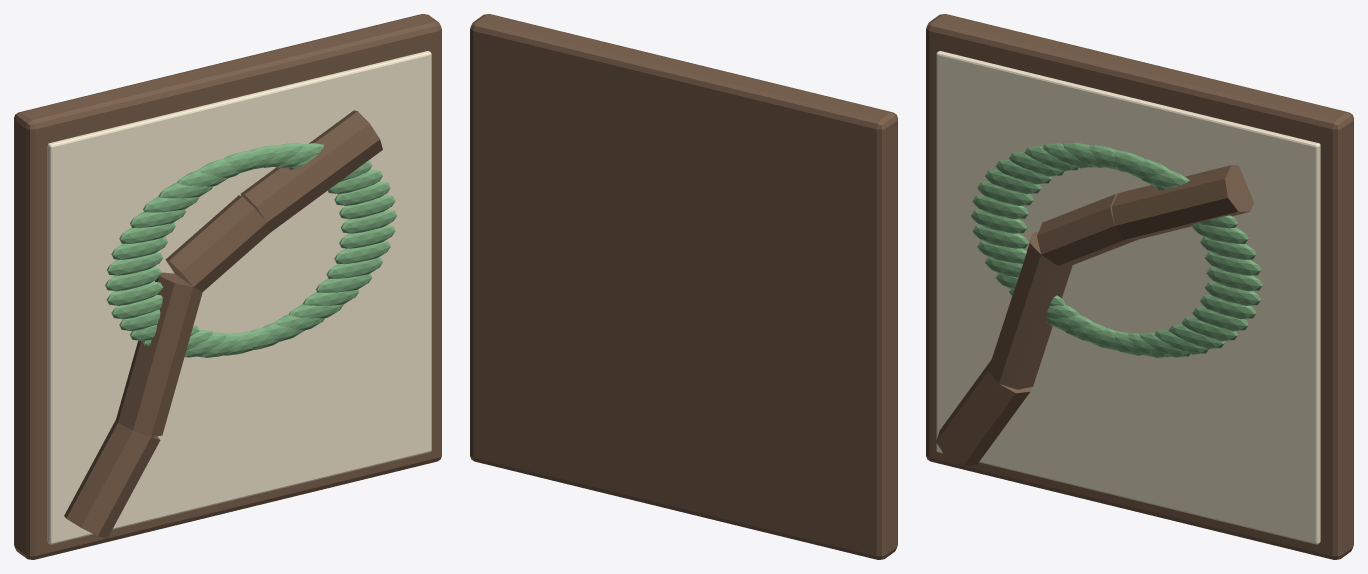
The model's file is stage_kagamiita_panel.glb.
The picture shows the model from 3 angles, left to right: view 1: azimuth 30°, elevation 25°; view 2: azimuth 150°, elevation 25°; view 3: azimuth 330°, elevation 25°; orthographic projection.
Visible parts, largest first — view 1: Kagamiita pale paper field, Kabuki stage kagamiita cedar frame, Painted old pine trunk_01, Painted old pine trunk_03, Painted old pine trunk_00, Painted old pine trunk_02, Fine painted pine needle mass.019, Fine painted pine needle mass, Fine painted pine needle mass.037, Fine painted pine needle mass.020, Fine painted pine needle mass.018, Fine painted pine needle mass.001 (+15 smaller); view 2: Kabuki stage kagamiita cedar frame; view 3: Kagamiita pale paper field, Kabuki stage kagamiita cedar frame, Painted old pine trunk_03, Painted old pine trunk_01, Painted old pine trunk_00, Painted old pine trunk_02, Fine painted pine needle mass, Fine painted pine needle mass.019, Fine painted pine needle mass.037, Fine painted pine needle mass.020, Fine painted pine needle mass.001, Fine painted pine needle mass.018 (+15 smaller).
Boxes of the visible parts, x1,y1,x2,y2 form: Kagamiita pale paper field: (47,51,431,544); Kabuki stage kagamiita cedar frame: (14,14,441,559); Painted old pine trunk_01: (116,272,202,436); Painted old pine trunk_03: (240,110,382,232); Painted old pine trunk_00: (64,420,160,538); Painted old pine trunk_02: (165,195,270,291); Fine painted pine needle mass.019: (105,267,161,291); Fine painted pine needle mass: (340,209,396,233); Fine painted pine needle mass.037: (339,225,395,248); Fine painted pine needle mass.020: (106,281,162,305); Fine painted pine needle mass.018: (106,252,162,275); Fine painted pine needle mass.001: (339,195,395,219); Kabuki stage kagamiita cedar frame: (470,14,897,559); Kagamiita pale paper field: (936,51,1320,544); Kabuki stage kagamiita cedar frame: (926,14,1353,559); Painted old pine trunk_03: (1111,165,1253,239); Painted old pine trunk_01: (988,232,1072,389); Painted old pine trunk_00: (936,360,1031,466); Painted old pine trunk_02: (1037,194,1137,265); Fine painted pine needle mass: (1206,267,1262,291); Fine painted pine needle mass.019: (971,209,1027,233); Fine painted pine needle mass.037: (1205,281,1261,305); Fine painted pine needle mass.020: (972,225,1028,248); Fine painted pine needle mass.001: (1205,252,1261,275); Fine painted pine needle mass.018: (972,195,1028,219).
Size of the model in its own units: 1.93 by 1.95 by 0.3302.
